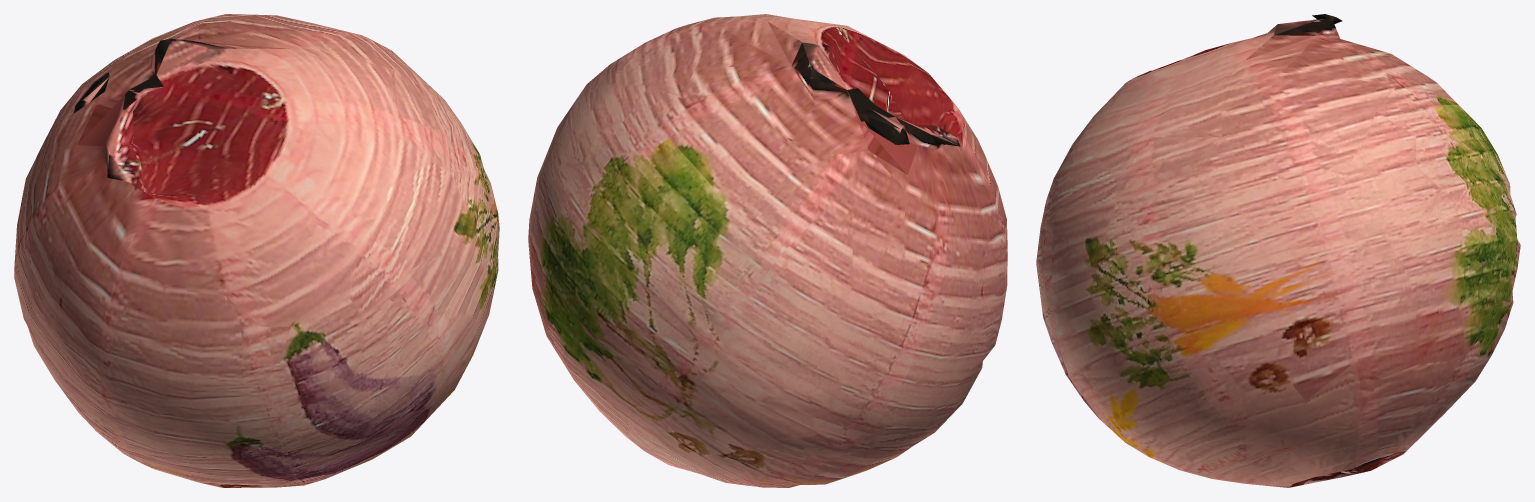
Rendered from AT3 Yona Vegetables 512.glb.
3 renders of one model, left to right at view 1: azimuth 30°, elevation 25°; view 2: azimuth 150°, elevation 25°; view 3: azimuth 270°, elevation 25°, orthographic.
Size of the model in its own units: 972 by 954 by 1000.
Materials: 1 (1 with a texture image).
